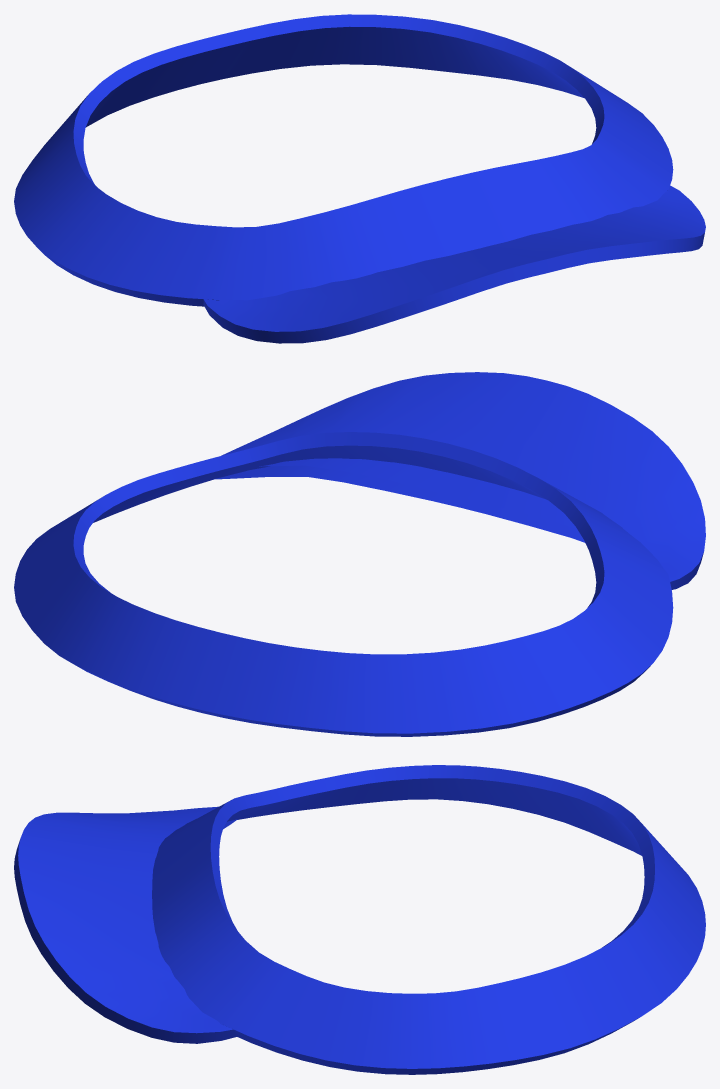
Rendered from Hat_Visor.fbx.
The picture shows the model from 3 angles, top to bottom: view 1: azimuth 30°, elevation 25°; view 2: azimuth 150°, elevation 25°; view 3: azimuth 270°, elevation 25°; orthographic projection. The views are drawn at different scales.
Parts seen in each view (by area): view 1: Hat; view 2: Hat; view 3: Hat.
Part boxes in pixels (left/top/right/bottom): Hat: left=14, top=14, right=705, bottom=343; Hat: left=14, top=372, right=705, bottom=736; Hat: left=14, top=765, right=705, bottom=1074.
Bounding box in the file's own units: 2.94 × 0.4416 × 3.04.
